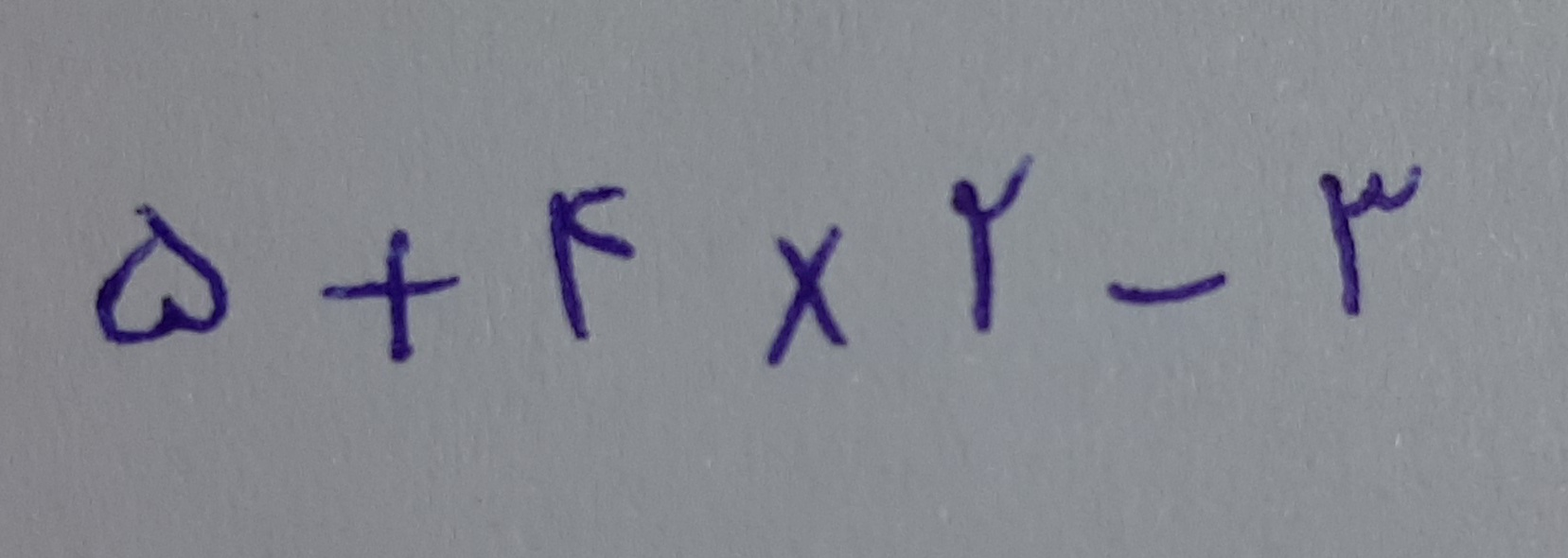character: (94, 199, 230, 346), (325, 229, 457, 364), (1323, 164, 1422, 320), (547, 183, 636, 341), (951, 157, 1030, 332), (761, 223, 845, 367), (1106, 271, 1229, 307)
